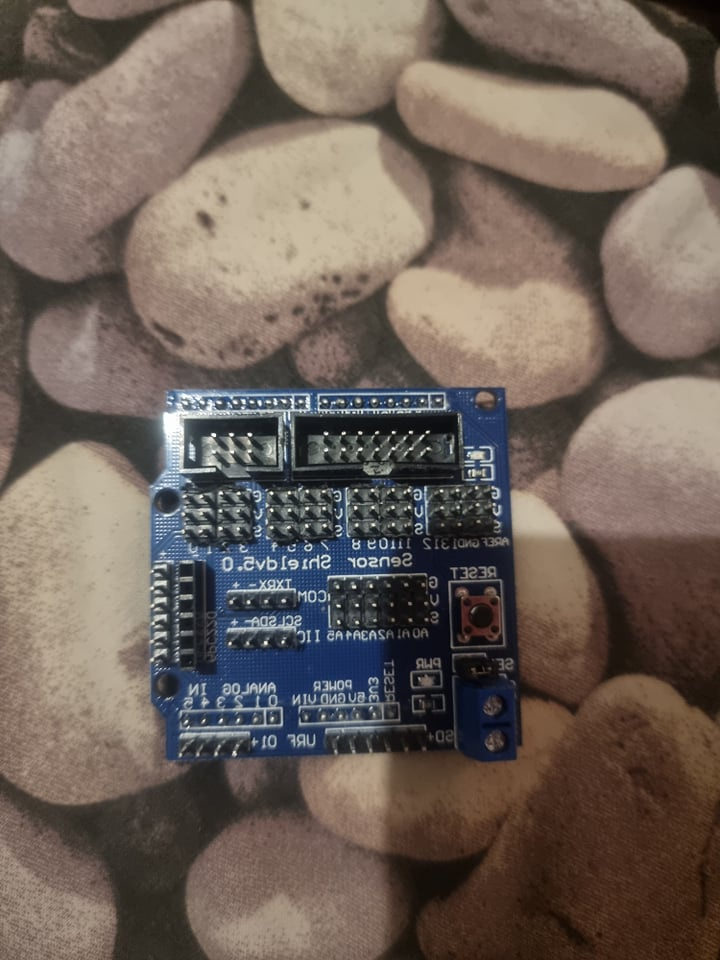5V EXPANSION: (146, 387, 529, 773)
